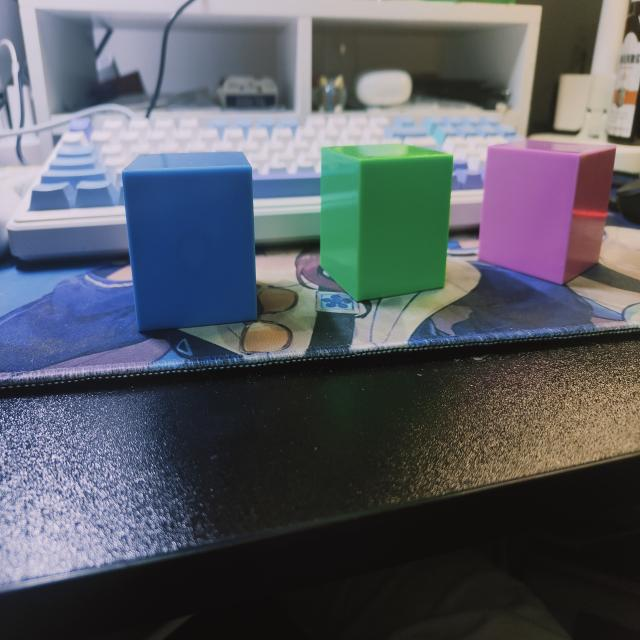blue: (121, 151, 260, 337)
green: (319, 145, 454, 304)
pink: (482, 142, 617, 286)
